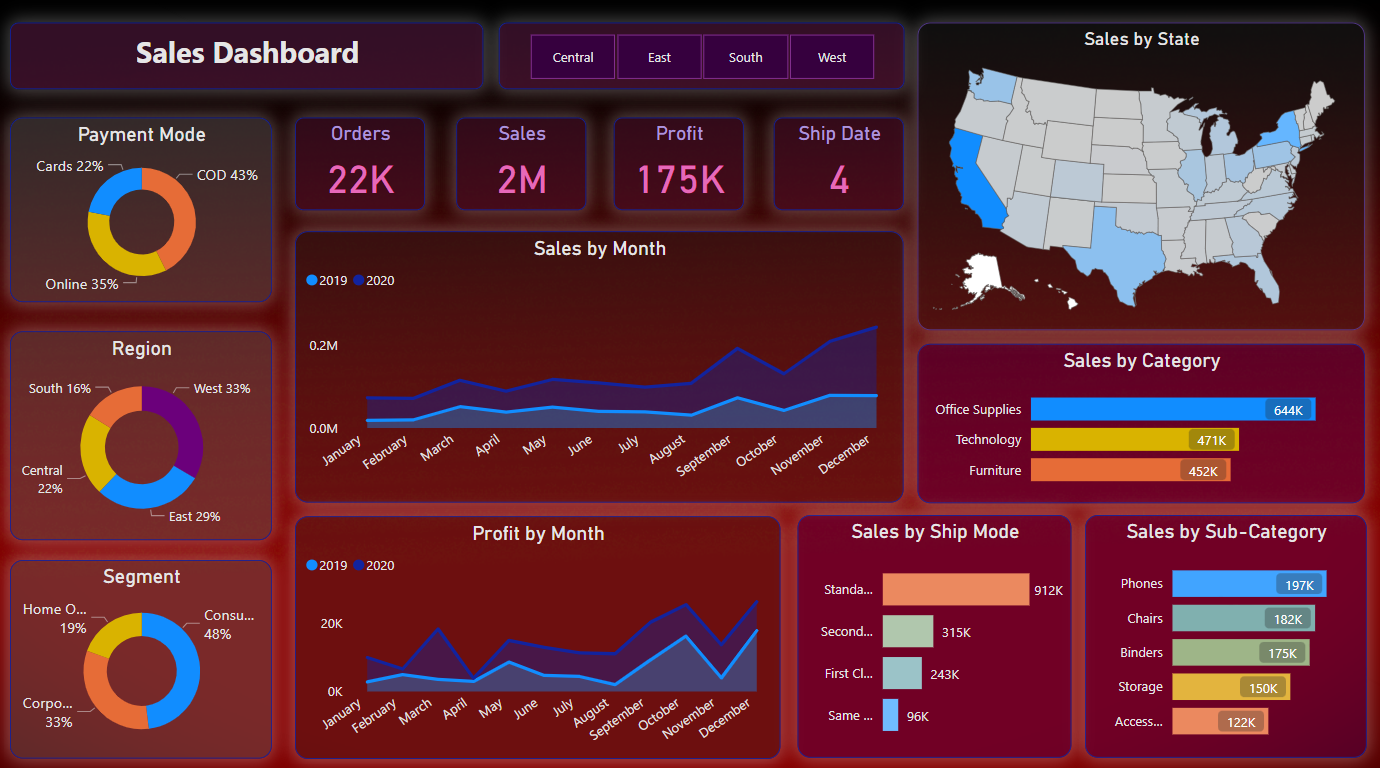

Layout of this report page (visuals, bound fields, positions):
{"tool":"powerbi","page":{"name":"Page 1","canvas":[1280,720],"ordinal":0},"visuals":[{"type":"clusteredBarChart","title":"Sales by Category","fields":{"Category":["SuperStore_Sales_Dataset.Category"],"Y":["Sum(SuperStore_Sales_Dataset.Sales)"]},"box":[851.4,321.4,412.9,147.1],"z":0},{"type":"clusteredBarChart","title":"Sales by Sub-Category","fields":{"Y":["Sum(SuperStore_Sales_Dataset.Sales)"],"Category":["SuperStore_Sales_Dataset.Sub-Category"]},"box":[1005.7,480,260,224.3],"z":1000},{"type":"clusteredBarChart","title":"Sales by Ship Mode","fields":{"Y":["Sum(SuperStore_Sales_Dataset.Sales)"],"Category":["SuperStore_Sales_Dataset.Ship Mode"]},"box":[740,480,252.9,224.3],"z":2000},{"type":"donutChart","title":"Payment Mode","fields":{"Category":["SuperStore_Sales_Dataset.Payment Mode"],"Y":["Sum(SuperStore_Sales_Dataset.Sales)"]},"box":[13.6,113.3,241.6,170.6],"z":3000},{"type":"donutChart","title":"Segment","fields":{"Y":["Sum(SuperStore_Sales_Dataset.Sales)"],"Category":["SuperStore_Sales_Dataset.Segment"]},"box":[13.6,521.4,241.6,182.9],"z":4000},{"type":"donutChart","title":"Region","fields":{"Y":["Sum(SuperStore_Sales_Dataset.Sales)"],"Category":["SuperStore_Sales_Dataset.Region"]},"box":[13.6,309.8,241.6,192.5],"z":5000},{"type":"stackedAreaChart","title":"Sales by Month","fields":{"Category":["SuperStore_Sales_Dataset.Order Date.Variation.Date Hierarchy.Month"],"Y":["Sum(SuperStore_Sales_Dataset.Sales)"],"Series":["SuperStore_Sales_Dataset.Order Date.Variation.Date Hierarchy.Year"]},"box":[277.1,218.6,561.4,250],"z":6000},{"type":"stackedAreaChart","title":"Profit by Month","fields":{"Category":["SuperStore_Sales_Dataset.Order Date.Variation.Date Hierarchy.Month"],"Series":["SuperStore_Sales_Dataset.Order Date.Variation.Date Hierarchy.Year"],"Y":["Sum(SuperStore_Sales_Dataset.Profit)"]},"box":[277.1,480.4,447.7,223.8],"z":7000},{"type":"shapeMap","title":"Sales by State","fields":{"Category":["SuperStore_Sales_Dataset.State"],"Value":["Sum(SuperStore_Sales_Dataset.Sales)"]},"box":[851.4,25.7,412.9,284.3],"z":8000},{"type":"slicer","fields":{"Values":["SuperStore_Sales_Dataset.Region"]},"box":[464.3,25.7,374.3,61.4],"z":9000},{"type":"card","title":"Sales","fields":{"Values":["Sum(SuperStore_Sales_Dataset.Sales)"]},"box":[425.7,112.9,120,85.7],"z":10000},{"type":"card","title":"Profit","fields":{"Values":["Sum(SuperStore_Sales_Dataset.Profit)"]},"box":[571.4,112.9,120,85.7],"z":11000},{"type":"card","title":"Orders","fields":{"Values":["Sum(SuperStore_Sales_Dataset.Quantity)"]},"box":[277.1,112.9,120,85.7],"z":12000},{"type":"card","title":"Ship Date","fields":{"Values":["Avg(SuperStore_Sales_Dataset.ASD)"]},"box":[718.6,112.9,120,85.7],"z":13000},{"type":"textbox","box":[14.3,25.7,437.1,61.4],"z":14000}]}

Visuals, with their boxes in screenshot pixels (x1, y1, x2, y2), scaled from the page's 1280x720 canvas onto the 1380x768 screenshot:
"Sales by Category" clusteredBarChart: bbox=[918, 343, 1363, 500]
"Sales by Sub-Category" clusteredBarChart: bbox=[1084, 512, 1365, 751]
"Sales by Ship Mode" clusteredBarChart: bbox=[798, 512, 1070, 751]
"Payment Mode" donutChart: bbox=[15, 121, 275, 303]
"Segment" donutChart: bbox=[15, 556, 275, 751]
"Region" donutChart: bbox=[15, 330, 275, 536]
"Sales by Month" stackedAreaChart: bbox=[299, 233, 904, 500]
"Profit by Month" stackedAreaChart: bbox=[299, 512, 781, 751]
"Sales by State" shapeMap: bbox=[918, 27, 1363, 331]
slicer - SuperStore_Sales_Dataset.Region: bbox=[501, 27, 904, 93]
"Sales" card: bbox=[459, 120, 588, 212]
"Profit" card: bbox=[616, 120, 745, 212]
"Orders" card: bbox=[299, 120, 428, 212]
"Ship Date" card: bbox=[775, 120, 904, 212]
textbox: bbox=[15, 27, 487, 93]
